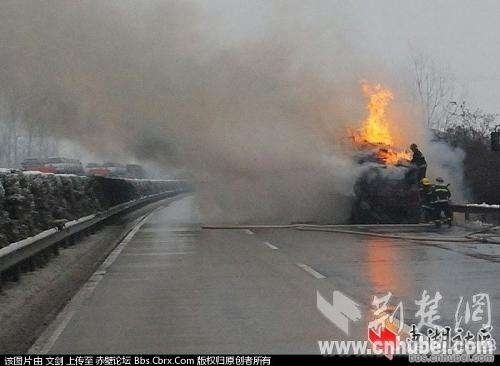fire: (347, 78, 418, 168)
